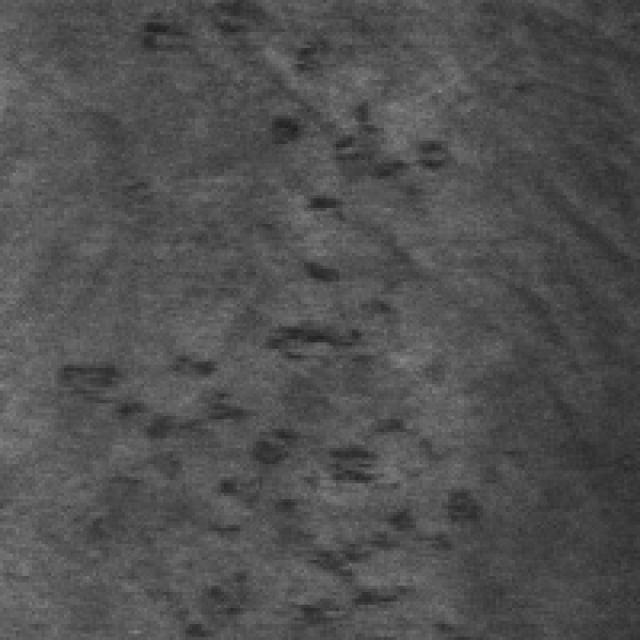rolled-in_scale: (55, 349, 502, 630), (253, 67, 461, 426)
